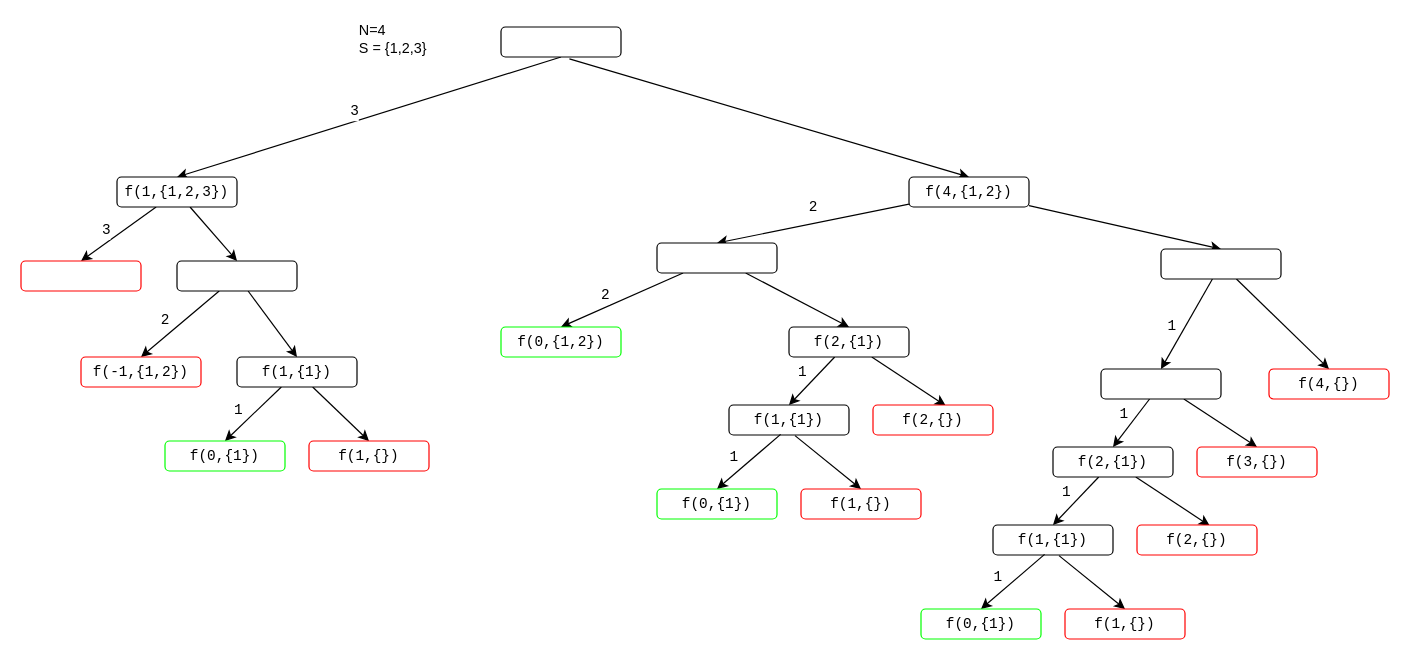
Image size: 1410x660. Some labels were removed from this diagram. The box of each missing label's shape, as (x1, y1, x2, y2) in pixels:
f(-2,{1,2,3}): (20, 260, 141, 291)
f(1,{1,2}): (176, 260, 297, 291)
f(2,{1,2}): (656, 242, 777, 273)
f(3,{1}): (1100, 368, 1221, 399)
f(4,{1,2,3}): (500, 26, 621, 57)
f(4,{1}): (1160, 248, 1281, 279)
